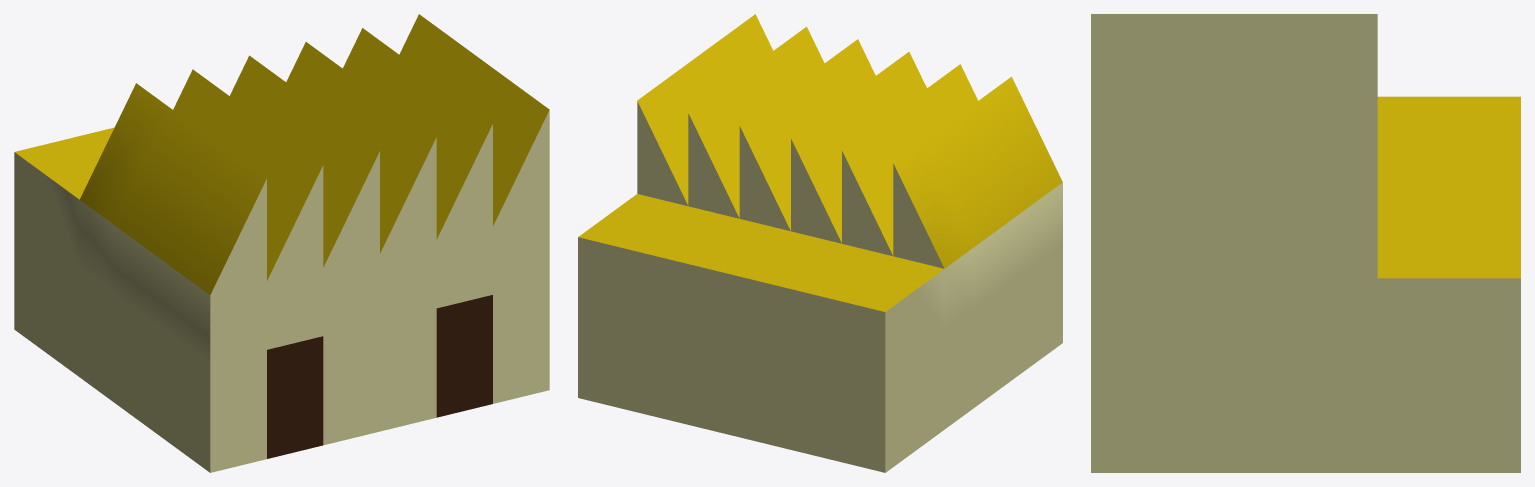
The model's file is industrial_1.glb.
3 views of the same model, side by side, from view 1: azimuth 30°, elevation 25°; view 2: azimuth 150°, elevation 25°; view 3: azimuth 270°, elevation 25° (orthographic). The views are drawn at different scales.
Visible parts, largest first — view 1: Cube.001; view 2: Cube.001; view 3: Cube.001.
Boxes of the visible parts, box(x1,y1,x2,y2) form: Cube.001: box(14, 14, 549, 472); Cube.001: box(578, 14, 1062, 472); Cube.001: box(1091, 14, 1520, 472).
Size of the model in its own units: 8 by 6.32 by 8.
